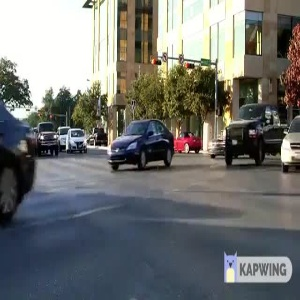car: (104, 113, 178, 172), (66, 123, 91, 155), (173, 130, 203, 155)
truck: (222, 100, 289, 174), (32, 119, 64, 158)
